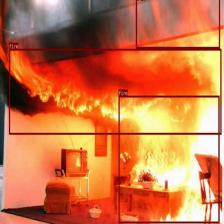fire: (9, 48, 221, 134), (118, 95, 219, 223), (135, 0, 219, 48)
